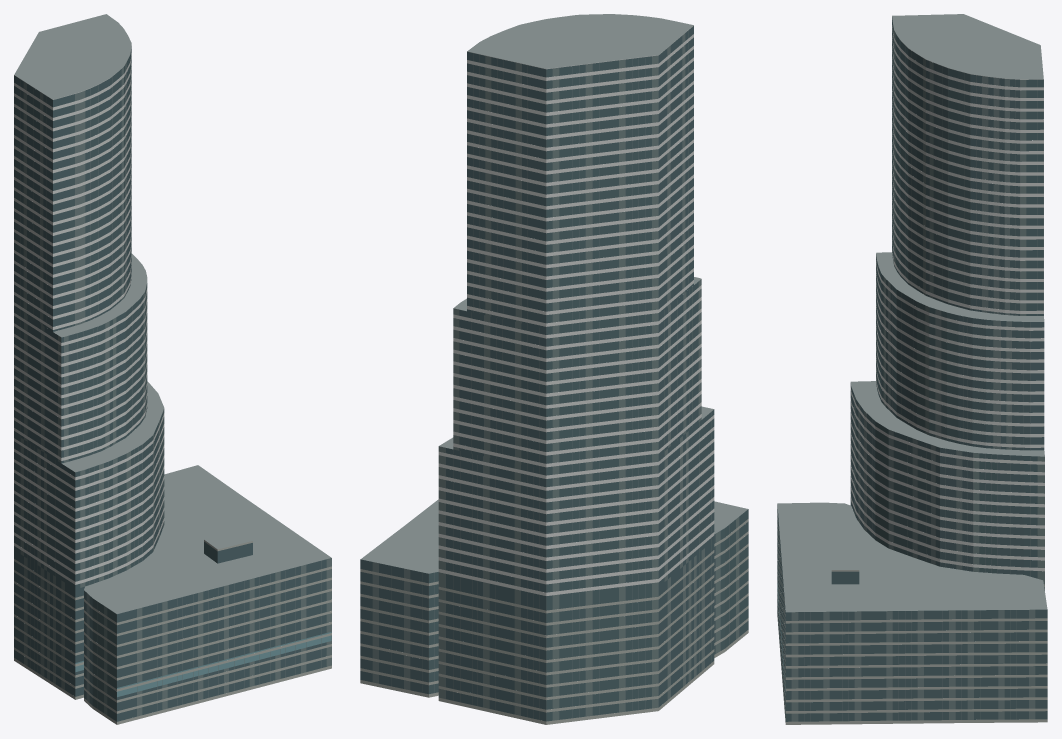
Rendered from miami-tower-near.glb.
The picture shows the model from 3 angles, left to right: view 1: azimuth 30°, elevation 25°; view 2: azimuth 150°, elevation 25°; view 3: azimuth 270°, elevation 25°; orthographic projection. The views are drawn at different scales.
Visible parts, largest first — view 1: miami-tower-0-glass, miami-tower-0-roof, miami-tower-0-light, miami-tower-0-reflection, miami-tower-0-stone, miami-tower-0-mullion, miami-tower-0-glow; view 2: miami-tower-0-glass, miami-tower-0-light, miami-tower-0-reflection, miami-tower-0-stone, miami-tower-0-roof, miami-tower-0-mullion; view 3: miami-tower-0-glass, miami-tower-0-light, miami-tower-0-roof, miami-tower-0-reflection, miami-tower-0-stone, miami-tower-0-mullion.
Boxes of the visible parts, left/top/right/bottom form: miami-tower-0-glass: left=14, top=46, right=326, bottom=721; miami-tower-0-roof: left=14, top=14, right=331, bottom=613; miami-tower-0-light: left=14, top=53, right=164, bottom=584; miami-tower-0-reflection: left=20, top=63, right=331, bottom=716; miami-tower-0-stone: left=14, top=540, right=331, bottom=724; miami-tower-0-mullion: left=20, top=62, right=331, bottom=721; miami-tower-0-glow: left=75, top=632, right=331, bottom=697; miami-tower-0-glass: left=360, top=26, right=748, bottom=721; miami-tower-0-light: left=438, top=25, right=714, bottom=595; miami-tower-0-reflection: left=373, top=33, right=738, bottom=720; miami-tower-0-stone: left=360, top=519, right=748, bottom=724; miami-tower-0-roof: left=361, top=14, right=747, bottom=573; miami-tower-0-mullion: left=372, top=31, right=748, bottom=721; miami-tower-0-glass: left=777, top=17, right=1047, bottom=721; miami-tower-0-light: left=850, top=25, right=1044, bottom=571; miami-tower-0-roof: left=777, top=14, right=1047, bottom=612; miami-tower-0-reflection: left=785, top=28, right=1044, bottom=721; miami-tower-0-stone: left=777, top=513, right=1047, bottom=724; miami-tower-0-mullion: left=779, top=39, right=1047, bottom=721.
Size of the model in its own units: 78.39 by 191 by 78.19.
